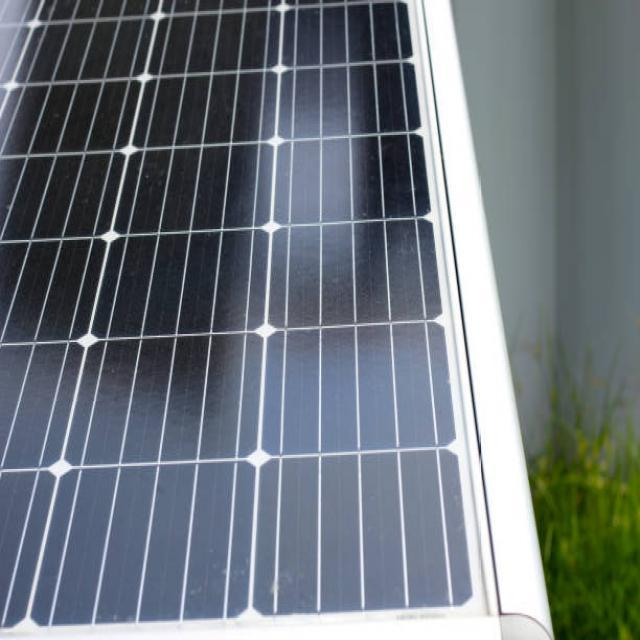Normal Solar Panel: (0, 0, 542, 639)
